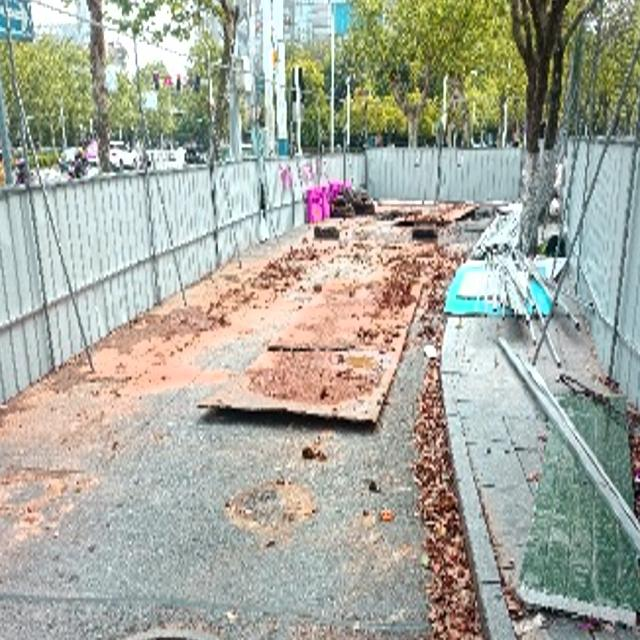good: (50, 626, 245, 640)
